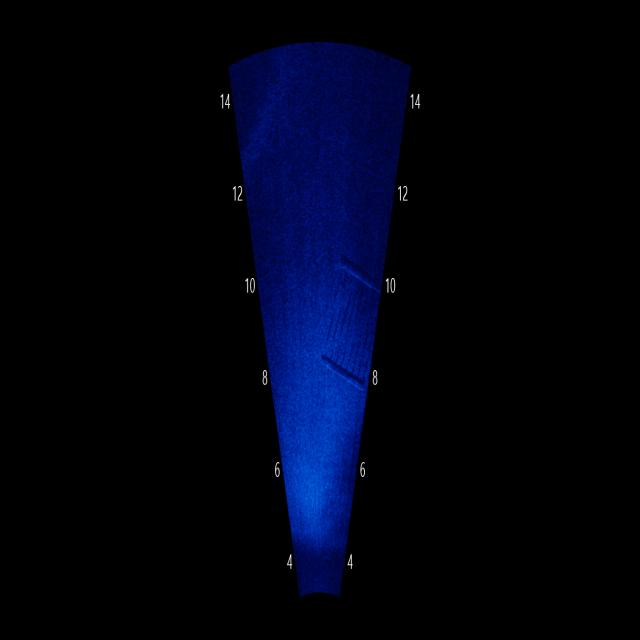square: (322, 230, 372, 408)
